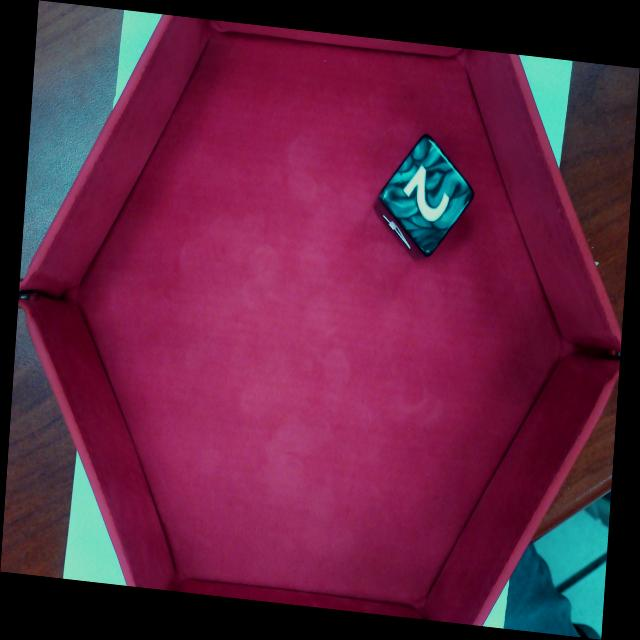dice: (382, 135, 475, 258)
